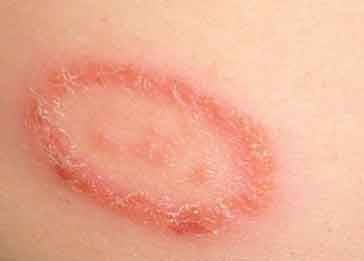Ringworm: (11, 43, 285, 243)
